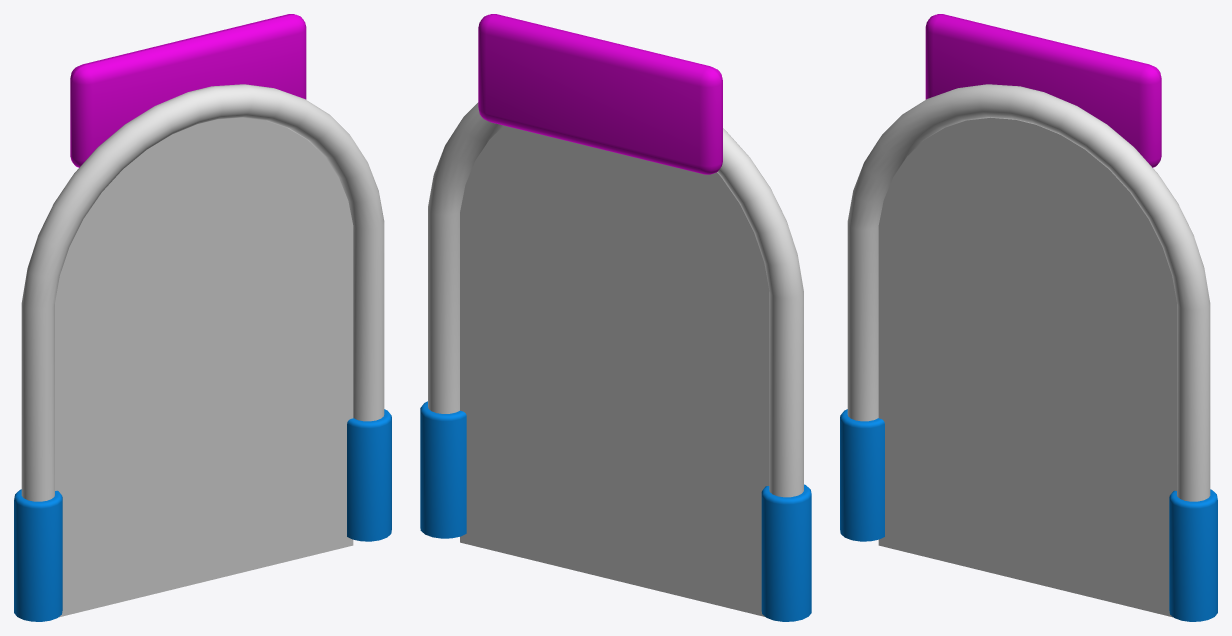
Rendered from Gate.fbx.
3 renders of one model, left to right at view 1: azimuth 30°, elevation 25°; view 2: azimuth 150°, elevation 25°; view 3: azimuth 330°, elevation 25°, orthographic. The views are drawn at different scales.
Parts seen in each view (by area): view 1: foog, Gate, Signboard; view 2: foog, Gate, Signboard; view 3: foog, Gate, Signboard.
Part boxes in pixels (left/top/right/bottom): foog: left=55, top=117, right=353, bottom=617; Gate: left=14, top=84, right=391, bottom=621; Signboard: left=70, top=14, right=306, bottom=167; foog: left=460, top=125, right=769, bottom=616; Gate: left=420, top=102, right=811, bottom=621; Signboard: left=478, top=14, right=722, bottom=174; foog: left=878, top=117, right=1176, bottom=617; Gate: left=840, top=84, right=1217, bottom=621; Signboard: left=925, top=14, right=1161, bottom=167.
Size of the model in its own units: 234 by 320 by 37.6.
